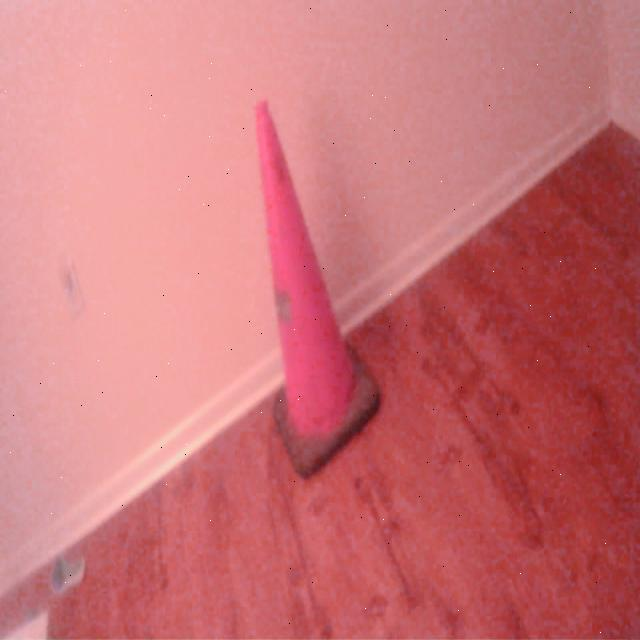traffic cone: (251, 94, 386, 486)
